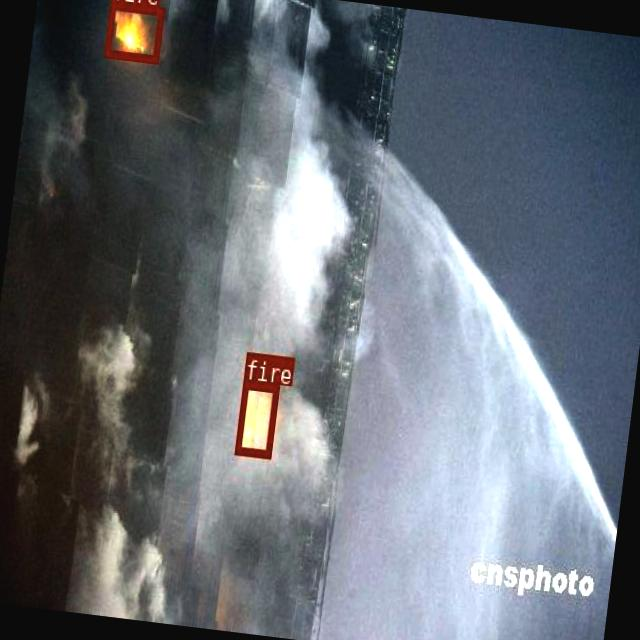fire: (103, 0, 163, 62), (233, 379, 278, 456)
